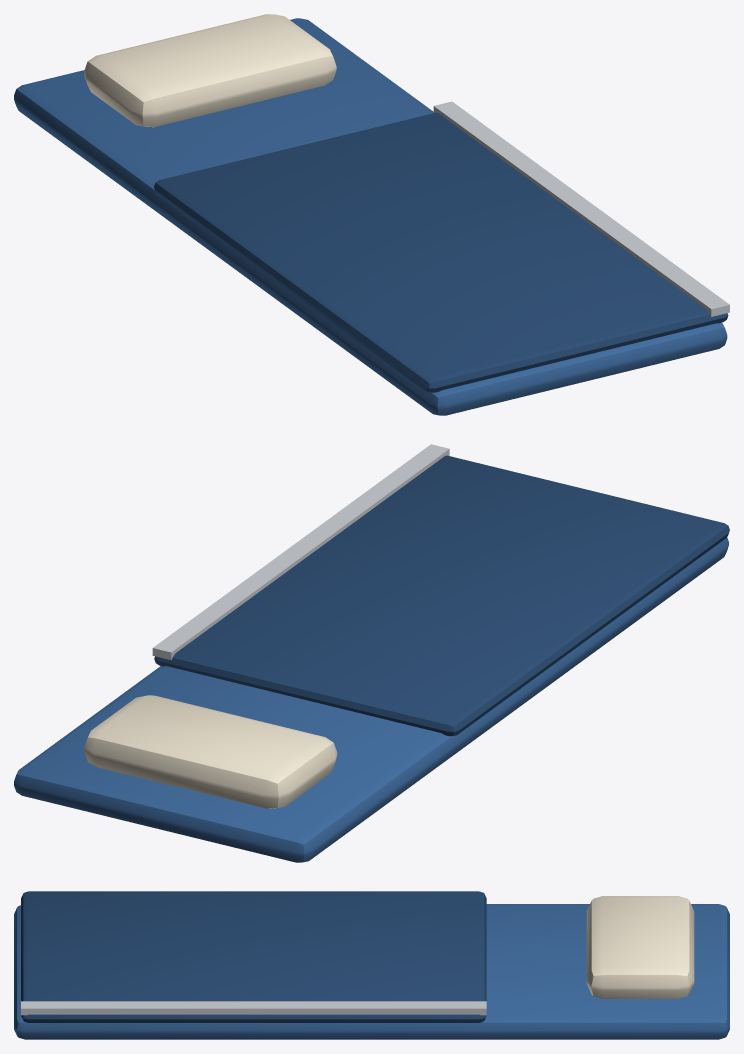
File: SM_SleepingBag_Open.glb
The picture shows the model from 3 angles, top to bottom: view 1: azimuth 30°, elevation 25°; view 2: azimuth 150°, elevation 25°; view 3: azimuth 270°, elevation 25°; orthographic projection. The views are drawn at different scales.
Visible parts, largest first — view 1: SM_SleepingBag_Open; view 2: SM_SleepingBag_Open; view 3: SM_SleepingBag_Open.
Boxes of the visible parts, x1,y1,x2,y2 form: SM_SleepingBag_Open: (14, 14, 729, 415); SM_SleepingBag_Open: (14, 444, 729, 862); SM_SleepingBag_Open: (14, 891, 729, 1039).
Bounding box in the file's own units: 0.82 × 0.16 × 2.
1 material, 1 textured.
